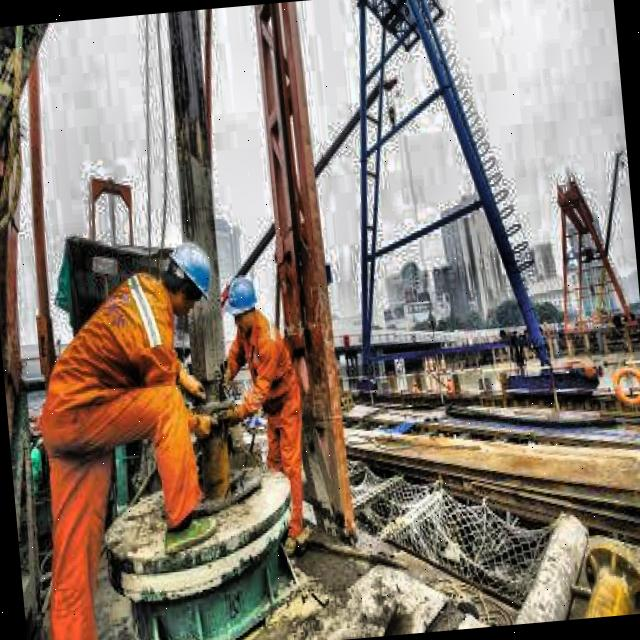helmet: (160, 240, 217, 320), (222, 268, 266, 340)
